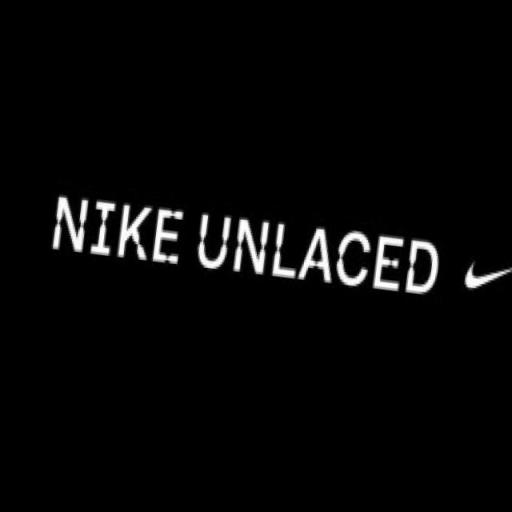Nike: (453, 248, 512, 299)
